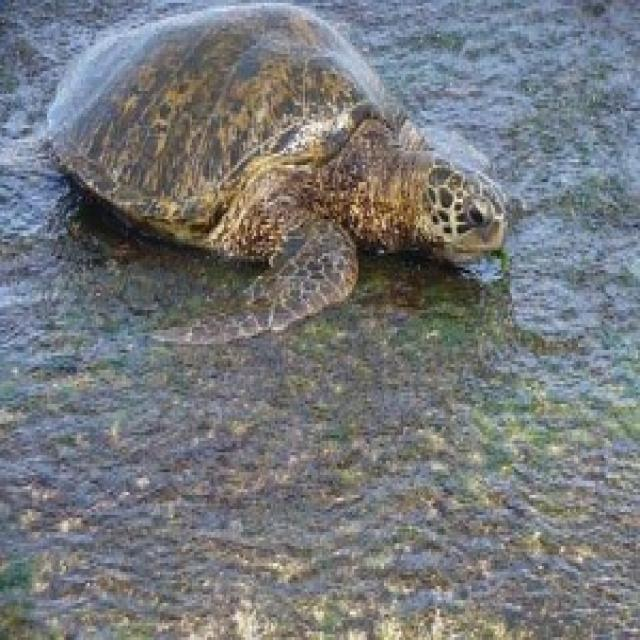Sea turtle: (35, 0, 518, 360)
